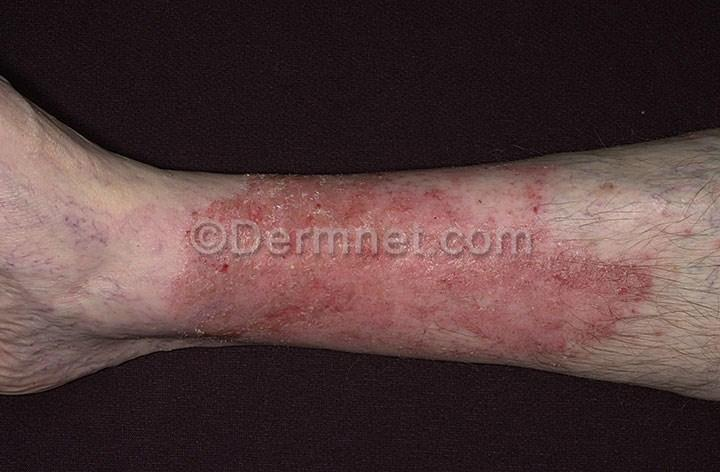Eczema: (185, 253, 650, 367), (194, 169, 560, 223)
